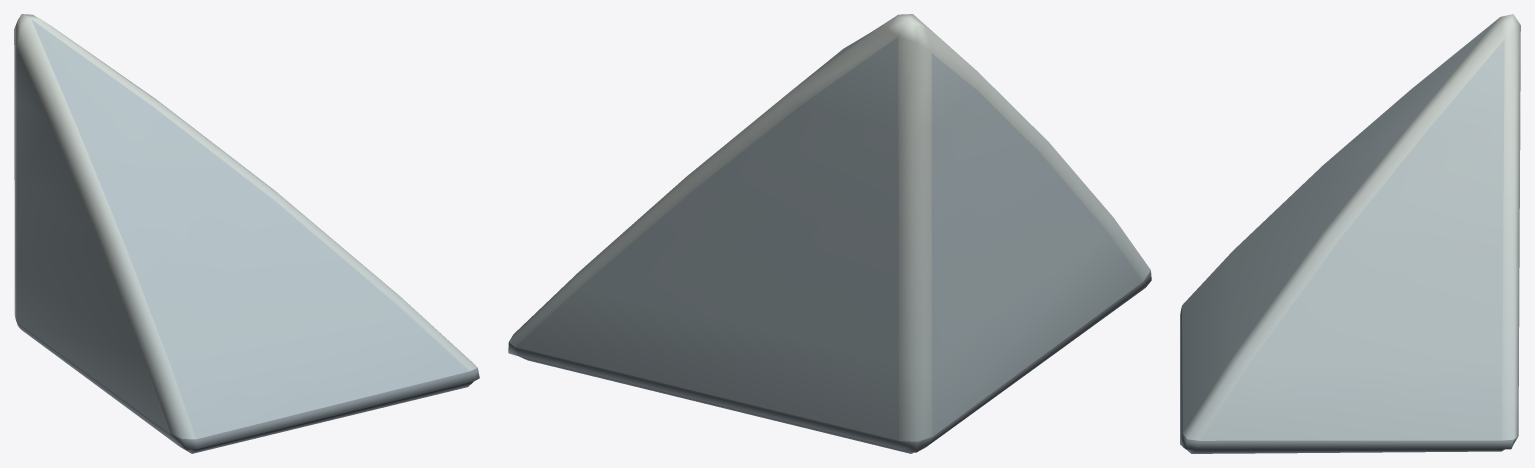
The model's file is Quartz_Slope_Outer.fbx.
The picture shows the model from 3 angles, left to right: view 1: azimuth 30°, elevation 25°; view 2: azimuth 150°, elevation 25°; view 3: azimuth 270°, elevation 25°; orthographic projection. The views are drawn at different scales.
Visible parts, largest first — view 1: Quartz_Slope_Outer_LOD0; view 2: Quartz_Slope_Outer_LOD0; view 3: Quartz_Slope_Outer_LOD0.
Part boxes in pixels (x1=…): Quartz_Slope_Outer_LOD0: x1=14, y1=14, x2=479, y2=453; Quartz_Slope_Outer_LOD0: x1=508, y1=14, x2=1151, y2=453; Quartz_Slope_Outer_LOD0: x1=1180, y1=14, x2=1520, y2=453.
Size of what is drawn, in the model's own units: 1.03 by 1.04 by 1.04.
